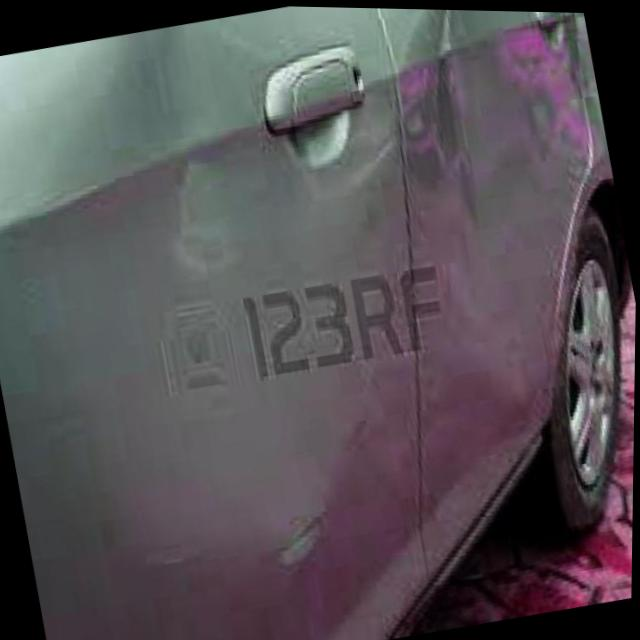Car-Damage: (26, 1, 439, 614), (393, 7, 516, 224)
